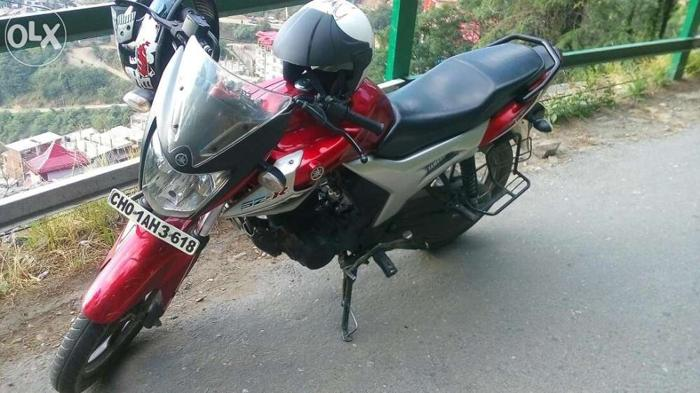numberplate: (106, 186, 202, 257)
